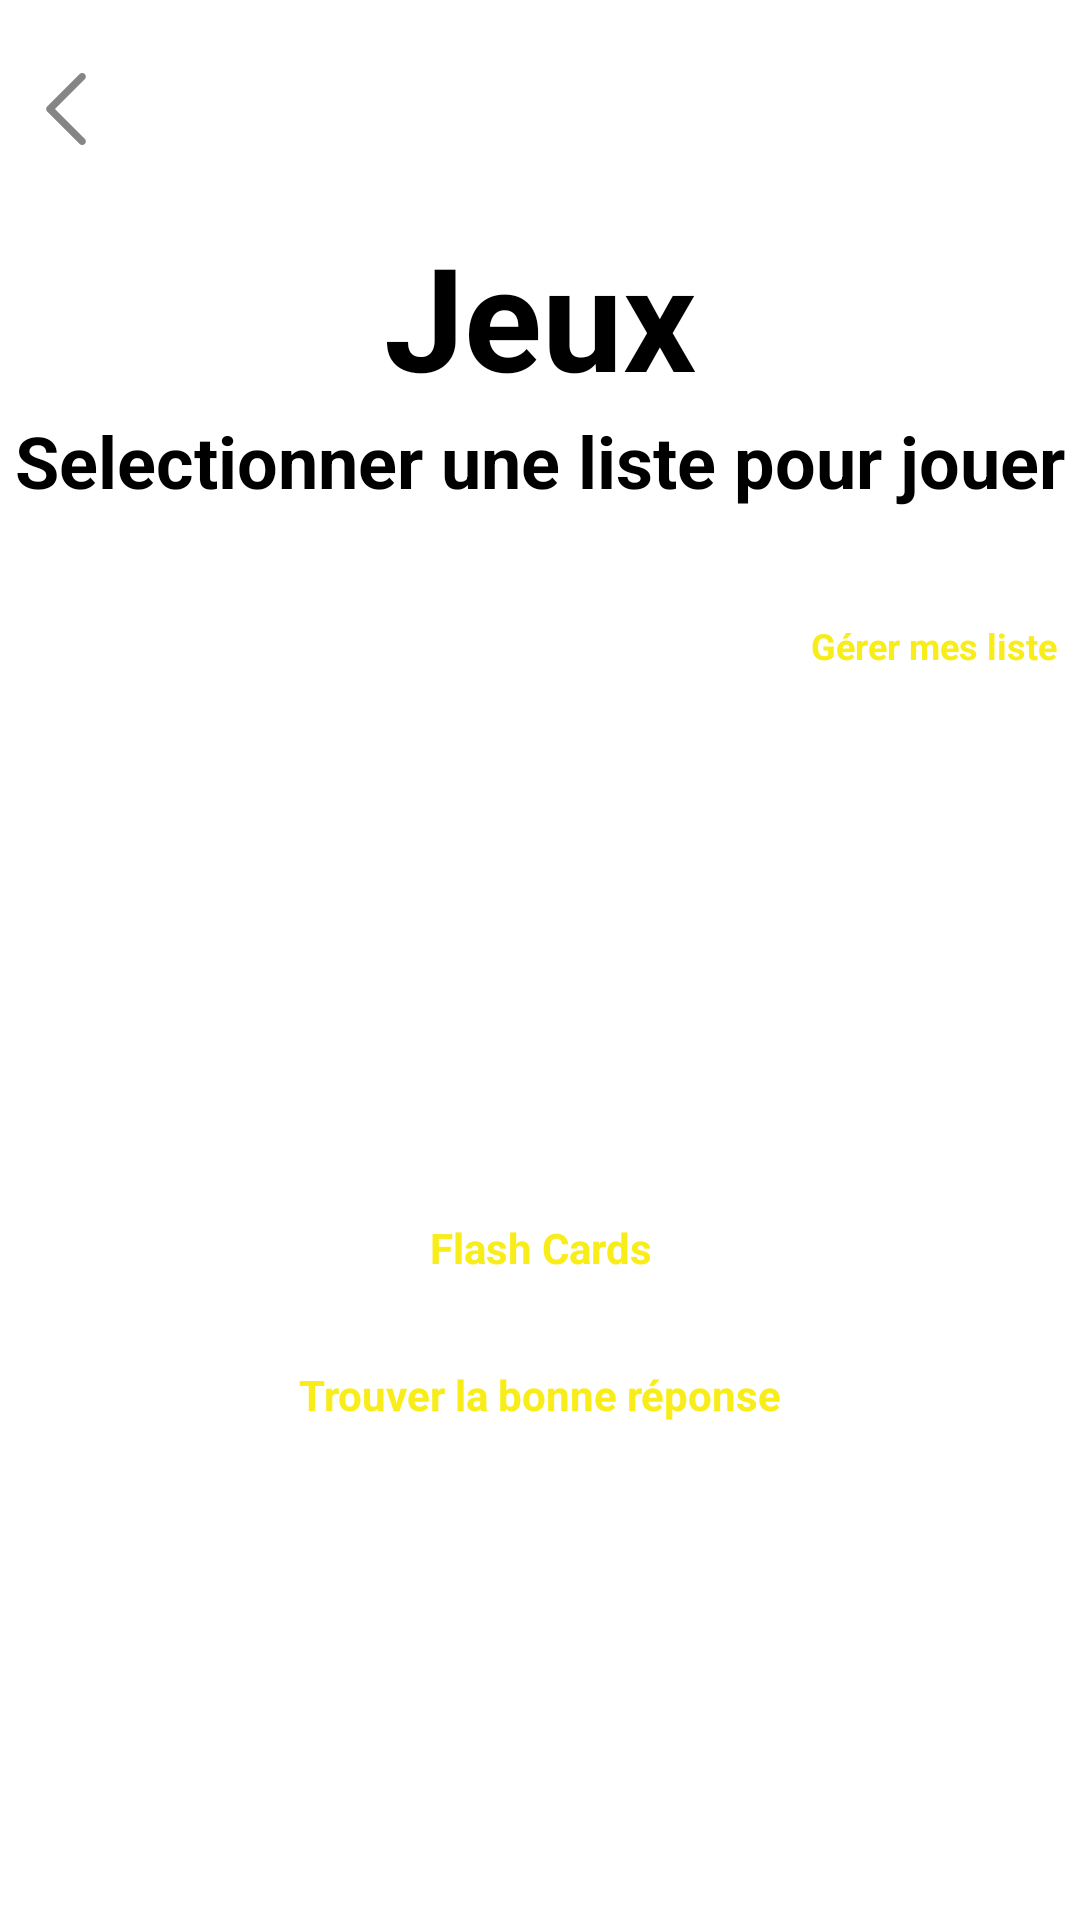

Named icons in this screenshot (1080px x 1920px) and their bounding boxes, (x1, y1, x2, y2):
retour: (46, 73, 86, 145)
